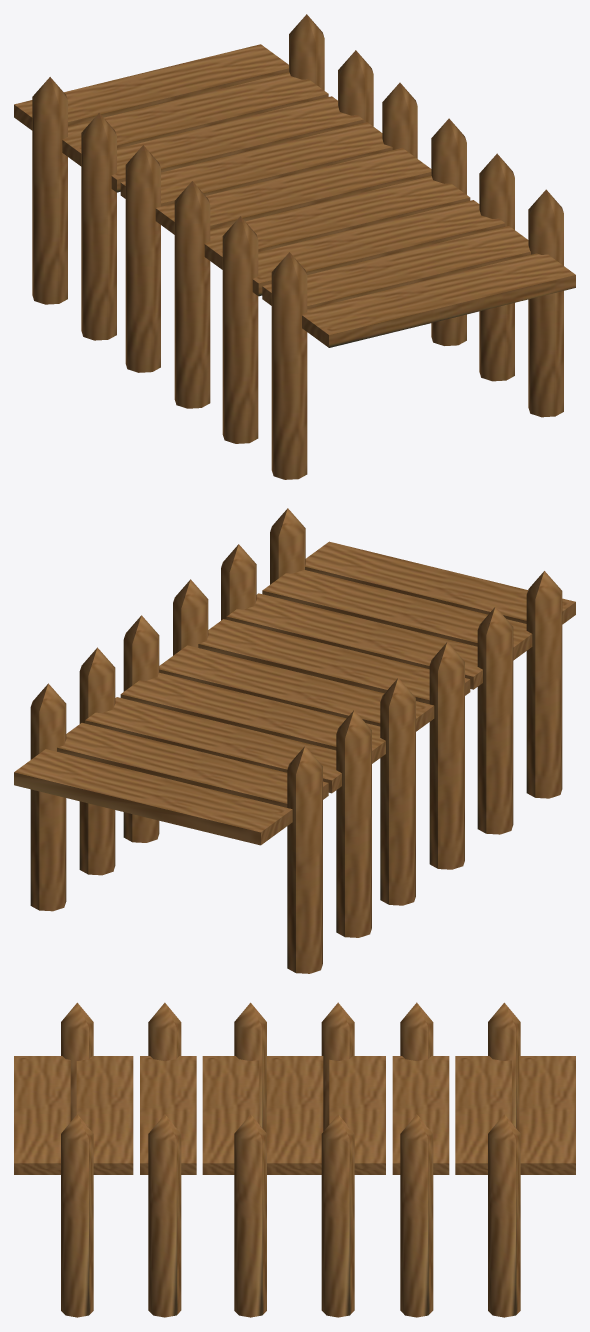
The model's file is Bridge.fbx.
3 renders of one model, top to bottom at view 1: azimuth 30°, elevation 25°; view 2: azimuth 150°, elevation 25°; view 3: azimuth 270°, elevation 25°, orthographic. The views are drawn at different scales.
Visible parts, largest first — view 1: Box020; view 2: Box020; view 3: Box020.
Boxes of the visible parts, x1,y1,x2,y2 form: Box020: [14, 14, 575, 479]; Box020: [14, 508, 575, 973]; Box020: [14, 1002, 575, 1317].
Size of the model in its own units: 15.2 by 11.09 by 28.74.
